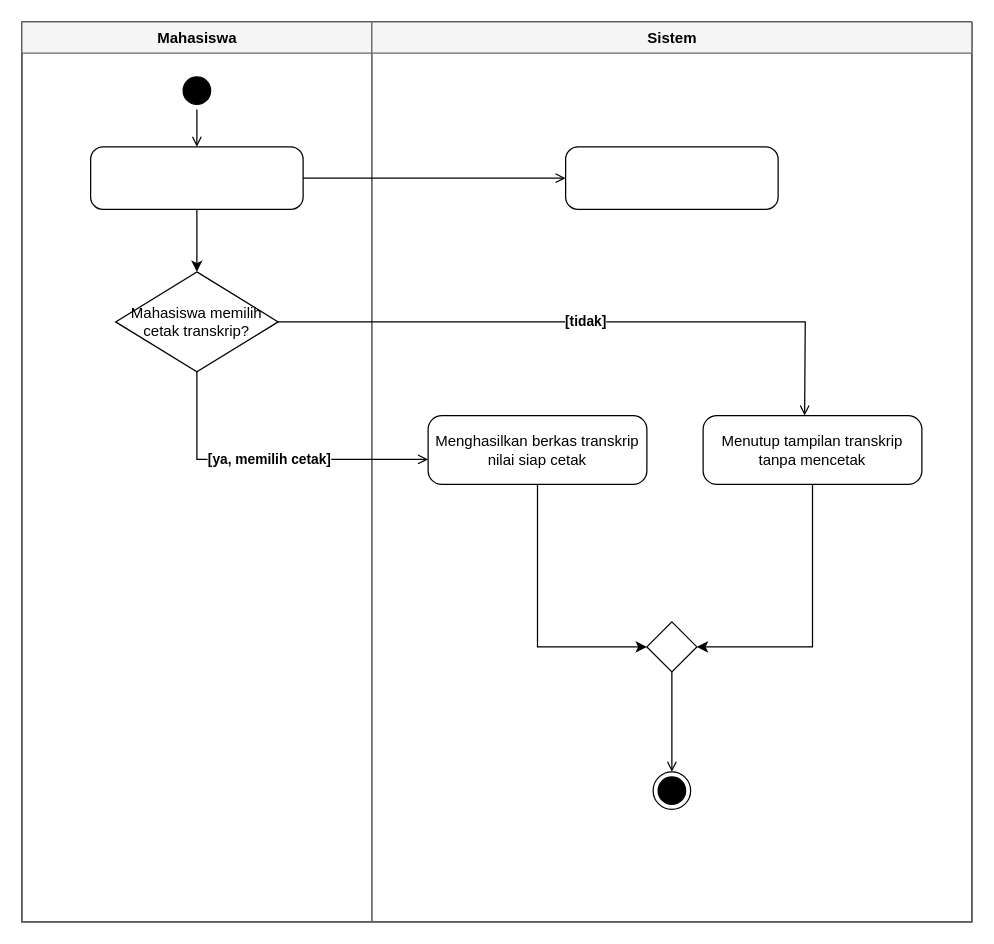
Some shapes in this 994 by 944 pixel diagram are drawn without their labels. The box of each missing label's shape, as (x1, y1, x2, y2) in pixels:
Membuka menu Transkrip Nilai: (89, 146, 303, 209)
Menampilkan rekap transkrip nilai kumulatif: (564, 146, 778, 209)
